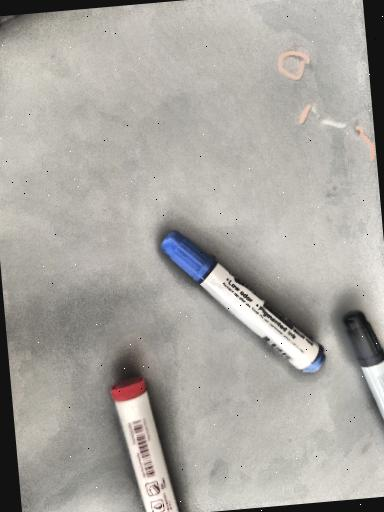marcador azul: (161, 231, 324, 371)
marcador rojo: (111, 376, 179, 512)
